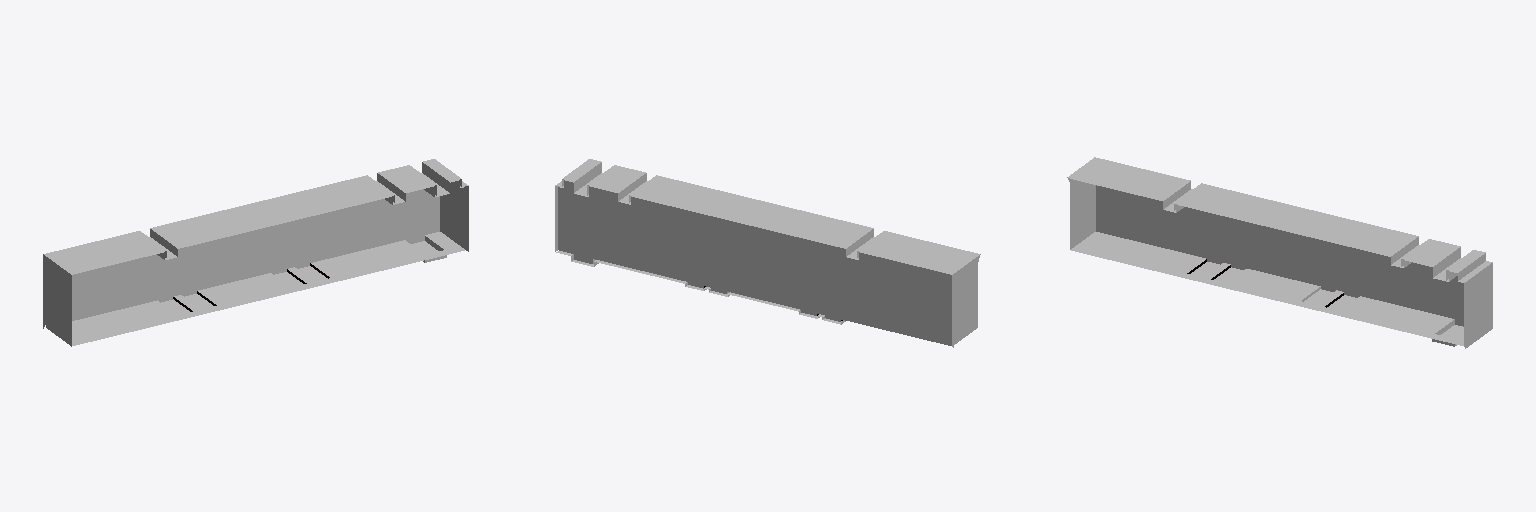
File: hallway_ceilingless.obj
3 renders of one model, left to right at view 1: azimuth 30°, elevation 25°; view 2: azimuth 150°, elevation 25°; view 3: azimuth 330°, elevation 25°, orthographic.
Parts seen in each view (by area): view 1: Hallway_V1.004, Hallway_V1, Hallway_V1.001; view 2: Hallway_V1, Hallway_V1.004; view 3: Hallway_V1.004, Hallway_V1, Hallway_V1.001.
Boxes of the visible parts, x1=… form: Hallway_V1.004: x1=43, y1=159, x2=468, y2=346; Hallway_V1: x1=72, y1=189, x2=439, y2=320; Hallway_V1.001: x1=161, y1=266, x2=327, y2=314; Hallway_V1: x1=558, y1=180, x2=951, y2=345; Hallway_V1.004: x1=555, y1=159, x2=980, y2=347; Hallway_V1.004: x1=1067, y1=157, x2=1492, y2=348; Hallway_V1: x1=1096, y1=185, x2=1463, y2=326; Hallway_V1.001: x1=1191, y1=262, x2=1356, y2=310.
Size of the model in its own units: 24.95 by 4.82 by 3.